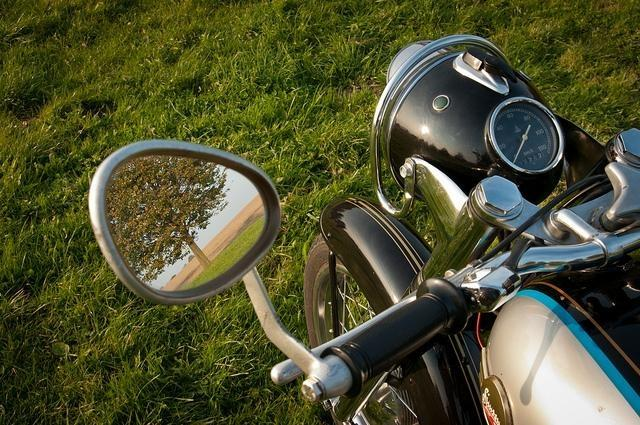motorcycle: (86, 41, 640, 419)
